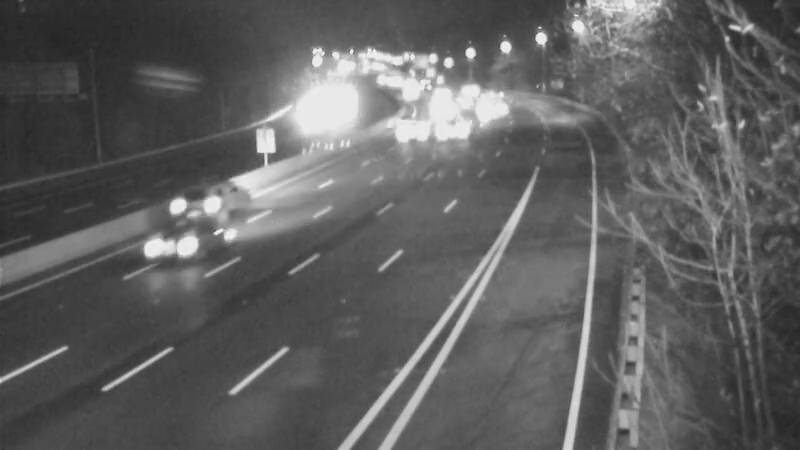vehicle: (160, 160, 240, 240), (132, 207, 212, 287), (414, 83, 464, 133), (463, 83, 513, 133), (425, 105, 475, 155), (390, 105, 440, 155)
